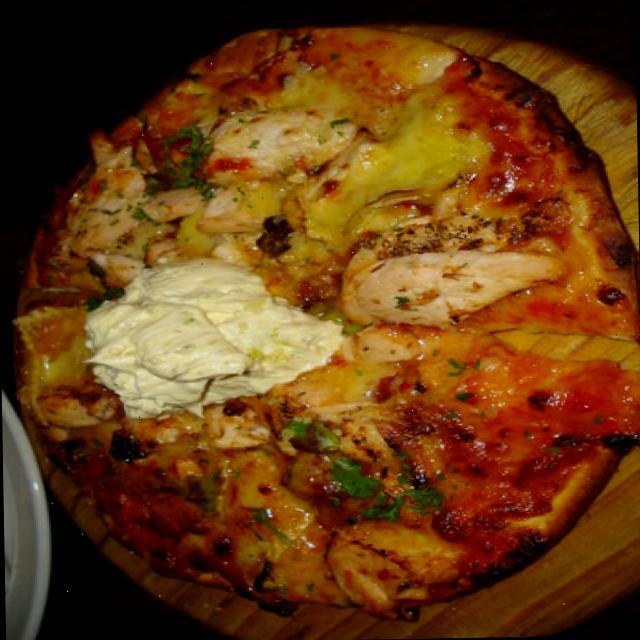basil: (324, 452, 448, 530), (146, 128, 225, 205)
cheese: (305, 104, 471, 206), (410, 368, 548, 424), (266, 193, 345, 264), (309, 366, 381, 424)
pizza: (17, 28, 638, 618)
